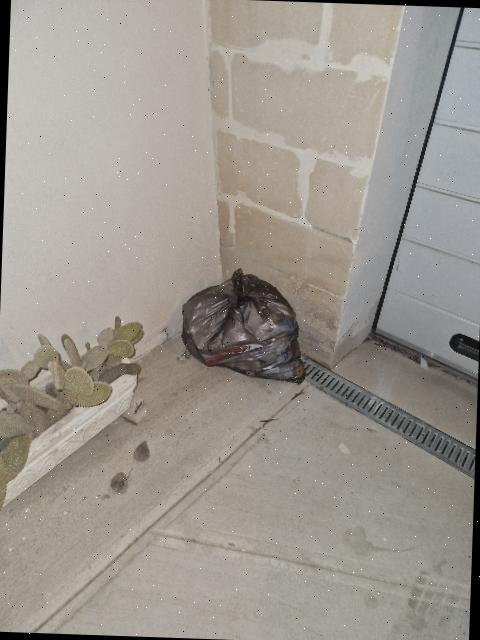Recyclable -Grey-: (182, 269, 305, 381)
